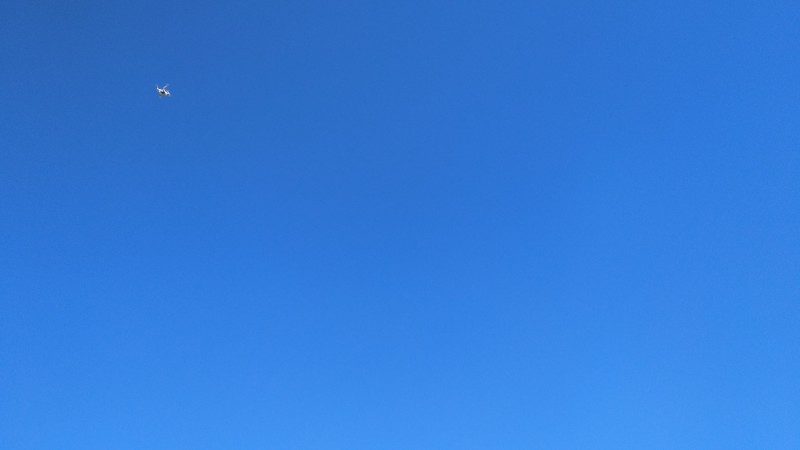drone: (154, 83, 171, 97)
